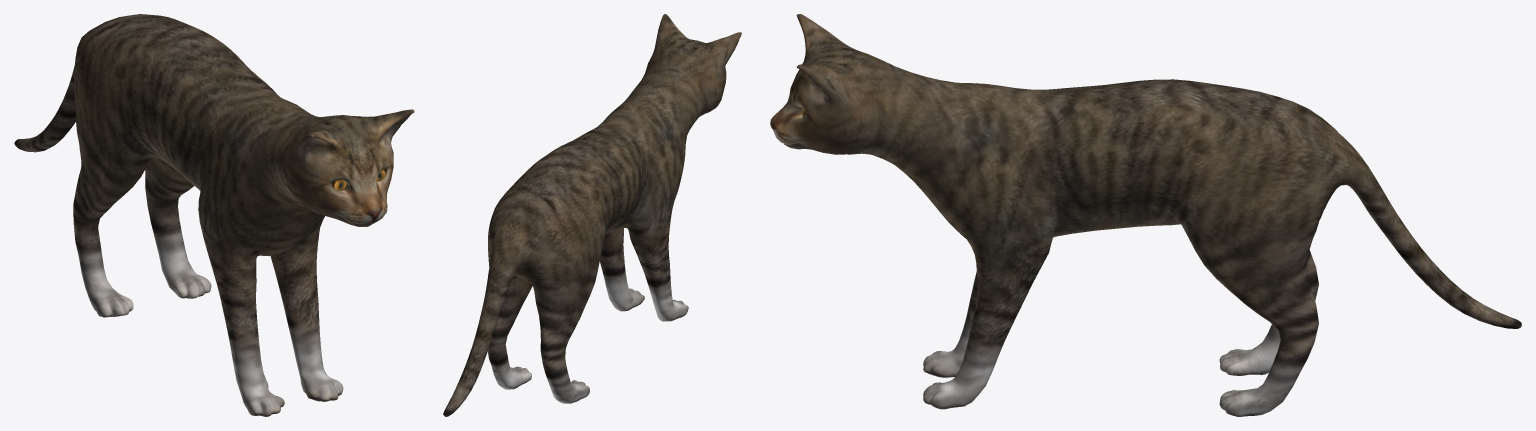
3 renders of one model, left to right at view 1: azimuth 30°, elevation 25°; view 2: azimuth 150°, elevation 25°; view 3: azimuth 270°, elevation 25°, orthographic. The views are drawn at different scales.
Parts seen in each view (by area): view 1: Object_8; view 2: Object_8; view 3: Object_8.
Boxes of the visible parts, bbox=[...] form: Object_8: bbox=[14, 14, 414, 416]; Object_8: bbox=[443, 14, 741, 416]; Object_8: bbox=[770, 14, 1521, 416].
Bounding box in the file's own units: 35.86 × 96.73 × 187.
3 materials, 3 textured.
